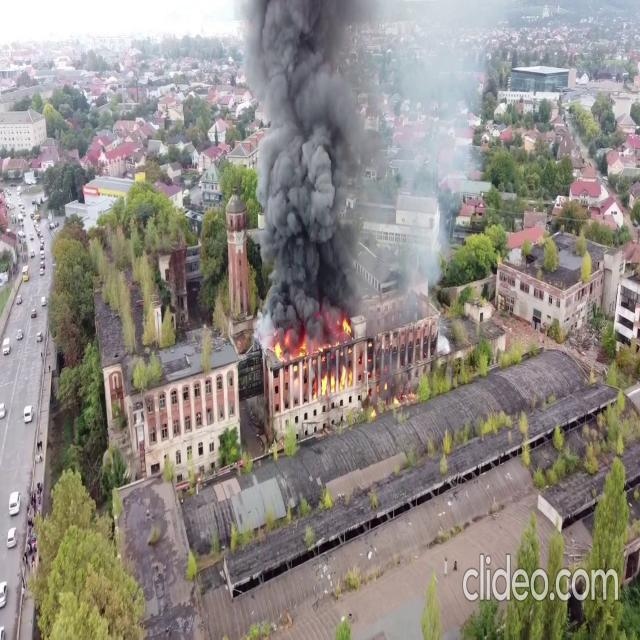Fire: (264, 310, 364, 366)
Smoke: (235, 1, 410, 334)
